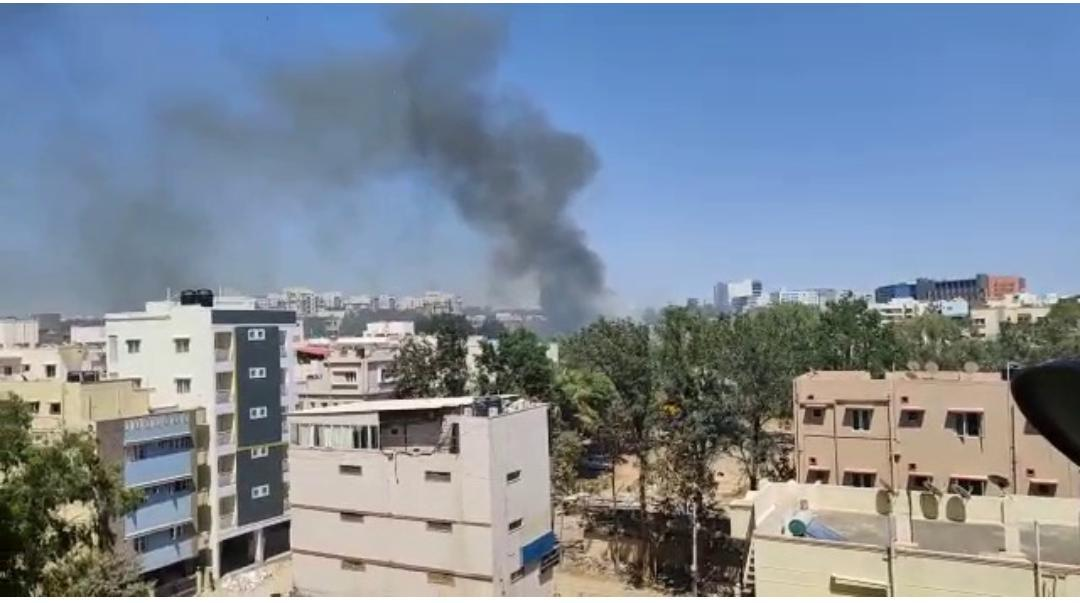smoke: (21, 5, 623, 335)
